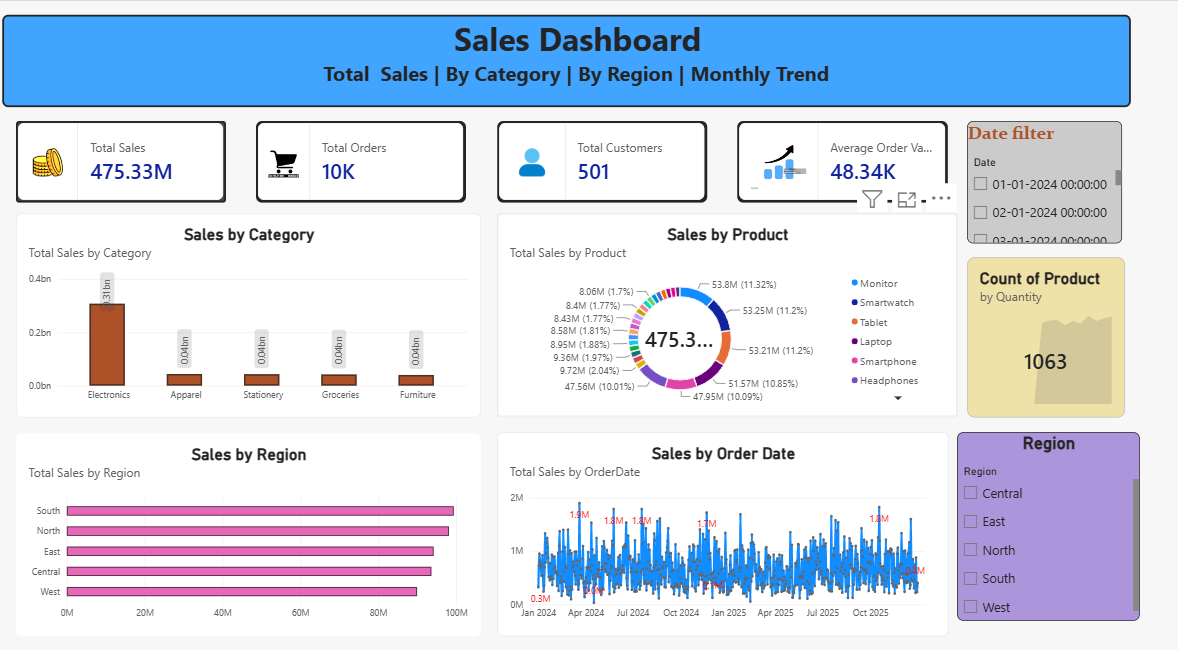

The dashboard page shown, as its layout file describes it:
{"tool":"powerbi","page":{"name":"Page 1","canvas":[1920,1080],"ordinal":0},"visuals":[{"type":"cardVisual","fields":{"Data":["Table1_2.Measure 2"]},"box":[26,160,280,109],"z":0},{"type":"textbox","box":[43,321,170,150],"z":1000},{"type":"textbox","box":[8.3,18.3,1505,123.3],"z":2000},{"type":"cardVisual","fields":{"Data":["Table1_2.Measure"]},"box":[346,160,280,109],"z":3000},{"type":"cardVisual","fields":{"Data":["Table1_2.Measure"]},"box":[668,160,280,109],"z":4000},{"type":"cardVisual","fields":{"Data":["Table1_2.Measure"]},"box":[988,160,281,109],"z":5000},{"type":"clusteredColumnChart","title":"Sales by Category","fields":{"Category":["Table1_2.Category"],"Y":["Table1_2.Total Sales"]},"box":[26.7,283.3,620,271.7],"z":6000},{"type":"clusteredBarChart","title":" Sales by Region","fields":{"Category":["Table1_2.Region"],"Y":["Table1_2.Total Sales"]},"box":[26.7,576.7,620,270],"z":7000},{"type":"lineChart","title":" Sales by Order Date","fields":{"Category":["Table1_2.OrderDate.Variation.Date Hierarchy.Year"],"Y":["Table1_2.Total Sales"]},"box":[668.3,575,601.7,271.7],"z":8000},{"type":"donutChart","title":"Sales by Product","fields":{"Category":["Table1_2.Product"],"Y":["Table1_2.Total Sales"]},"box":[668.3,283.3,613.3,271.7],"z":9000},{"type":"slicer","title":"Date filter","fields":{"Values":["DateTable.Date"]},"box":[1295,160,206.7,163.3],"z":10000},{"type":"kpi","fields":{"Indicator":["CountNonNull(Table1_2.Product)"],"TrendLine":["Table1_2.Quantity"]},"box":[1295,341.7,210,213.3],"z":11000},{"type":"slicer","title":"Region","fields":{"Values":["Table1_2.Region"]},"box":[1281.4,575.7,242.9,251.4],"z":12000}]}

Visuals, with their boxes in screenshot pixels (x1, y1, x2, y2), scaled from the page's 1920x1080 canvas onto the 1178x650 screenshot:
cardVisual - Table1_2.Measure 2: left=16, top=96, right=188, bottom=162
textbox: left=26, top=193, right=131, bottom=283
textbox: left=5, top=11, right=928, bottom=85
cardVisual - Table1_2.Measure: left=212, top=96, right=384, bottom=162
cardVisual - Table1_2.Measure: left=410, top=96, right=582, bottom=162
cardVisual - Table1_2.Measure: left=606, top=96, right=779, bottom=162
"Sales by Category" clusteredColumnChart: left=16, top=171, right=397, bottom=334
" Sales by Region" clusteredBarChart: left=16, top=347, right=397, bottom=510
" Sales by Order Date" lineChart: left=410, top=346, right=779, bottom=510
"Sales by Product" donutChart: left=410, top=171, right=786, bottom=334
"Date filter" slicer: left=795, top=96, right=921, bottom=195
kpi - CountNonNull(Table1_2.Product) x Table1_2.Quantity: left=795, top=206, right=923, bottom=334
"Region" slicer: left=786, top=346, right=935, bottom=498
